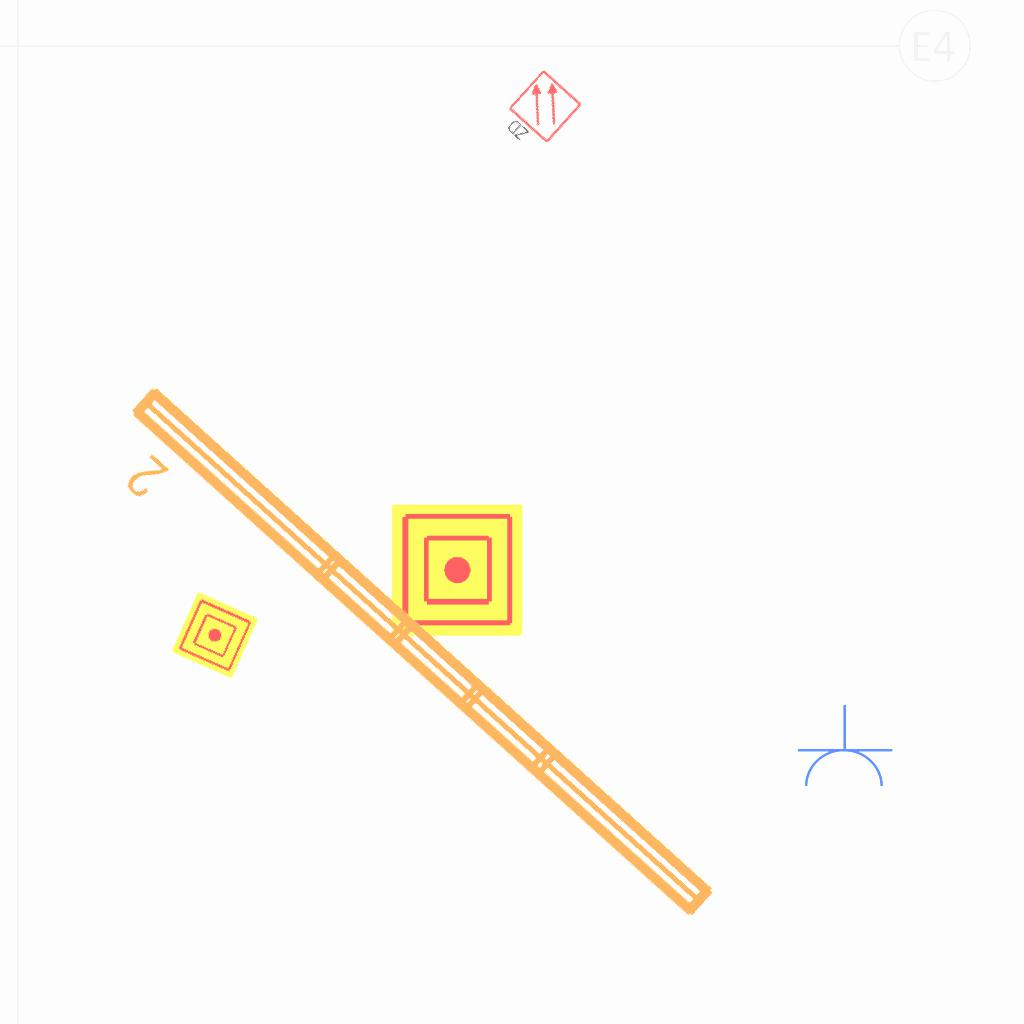Ambulanz_Pendelleuchte_LED: (80, 370, 732, 972)
NAM-Nichtautomatischer_Melder: (391, 504, 523, 636), (171, 591, 259, 679)
Schukosteckdose_einfach: (794, 704, 894, 791)
ZD_Melder_in_Zwischendecke_mit_Revisionsoeffnung_mind_40_x_40_cm: (493, 67, 586, 161)
